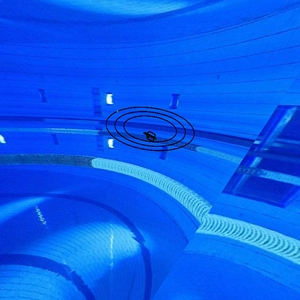circle: (102, 103, 199, 154)
submarine: (139, 129, 160, 145)
